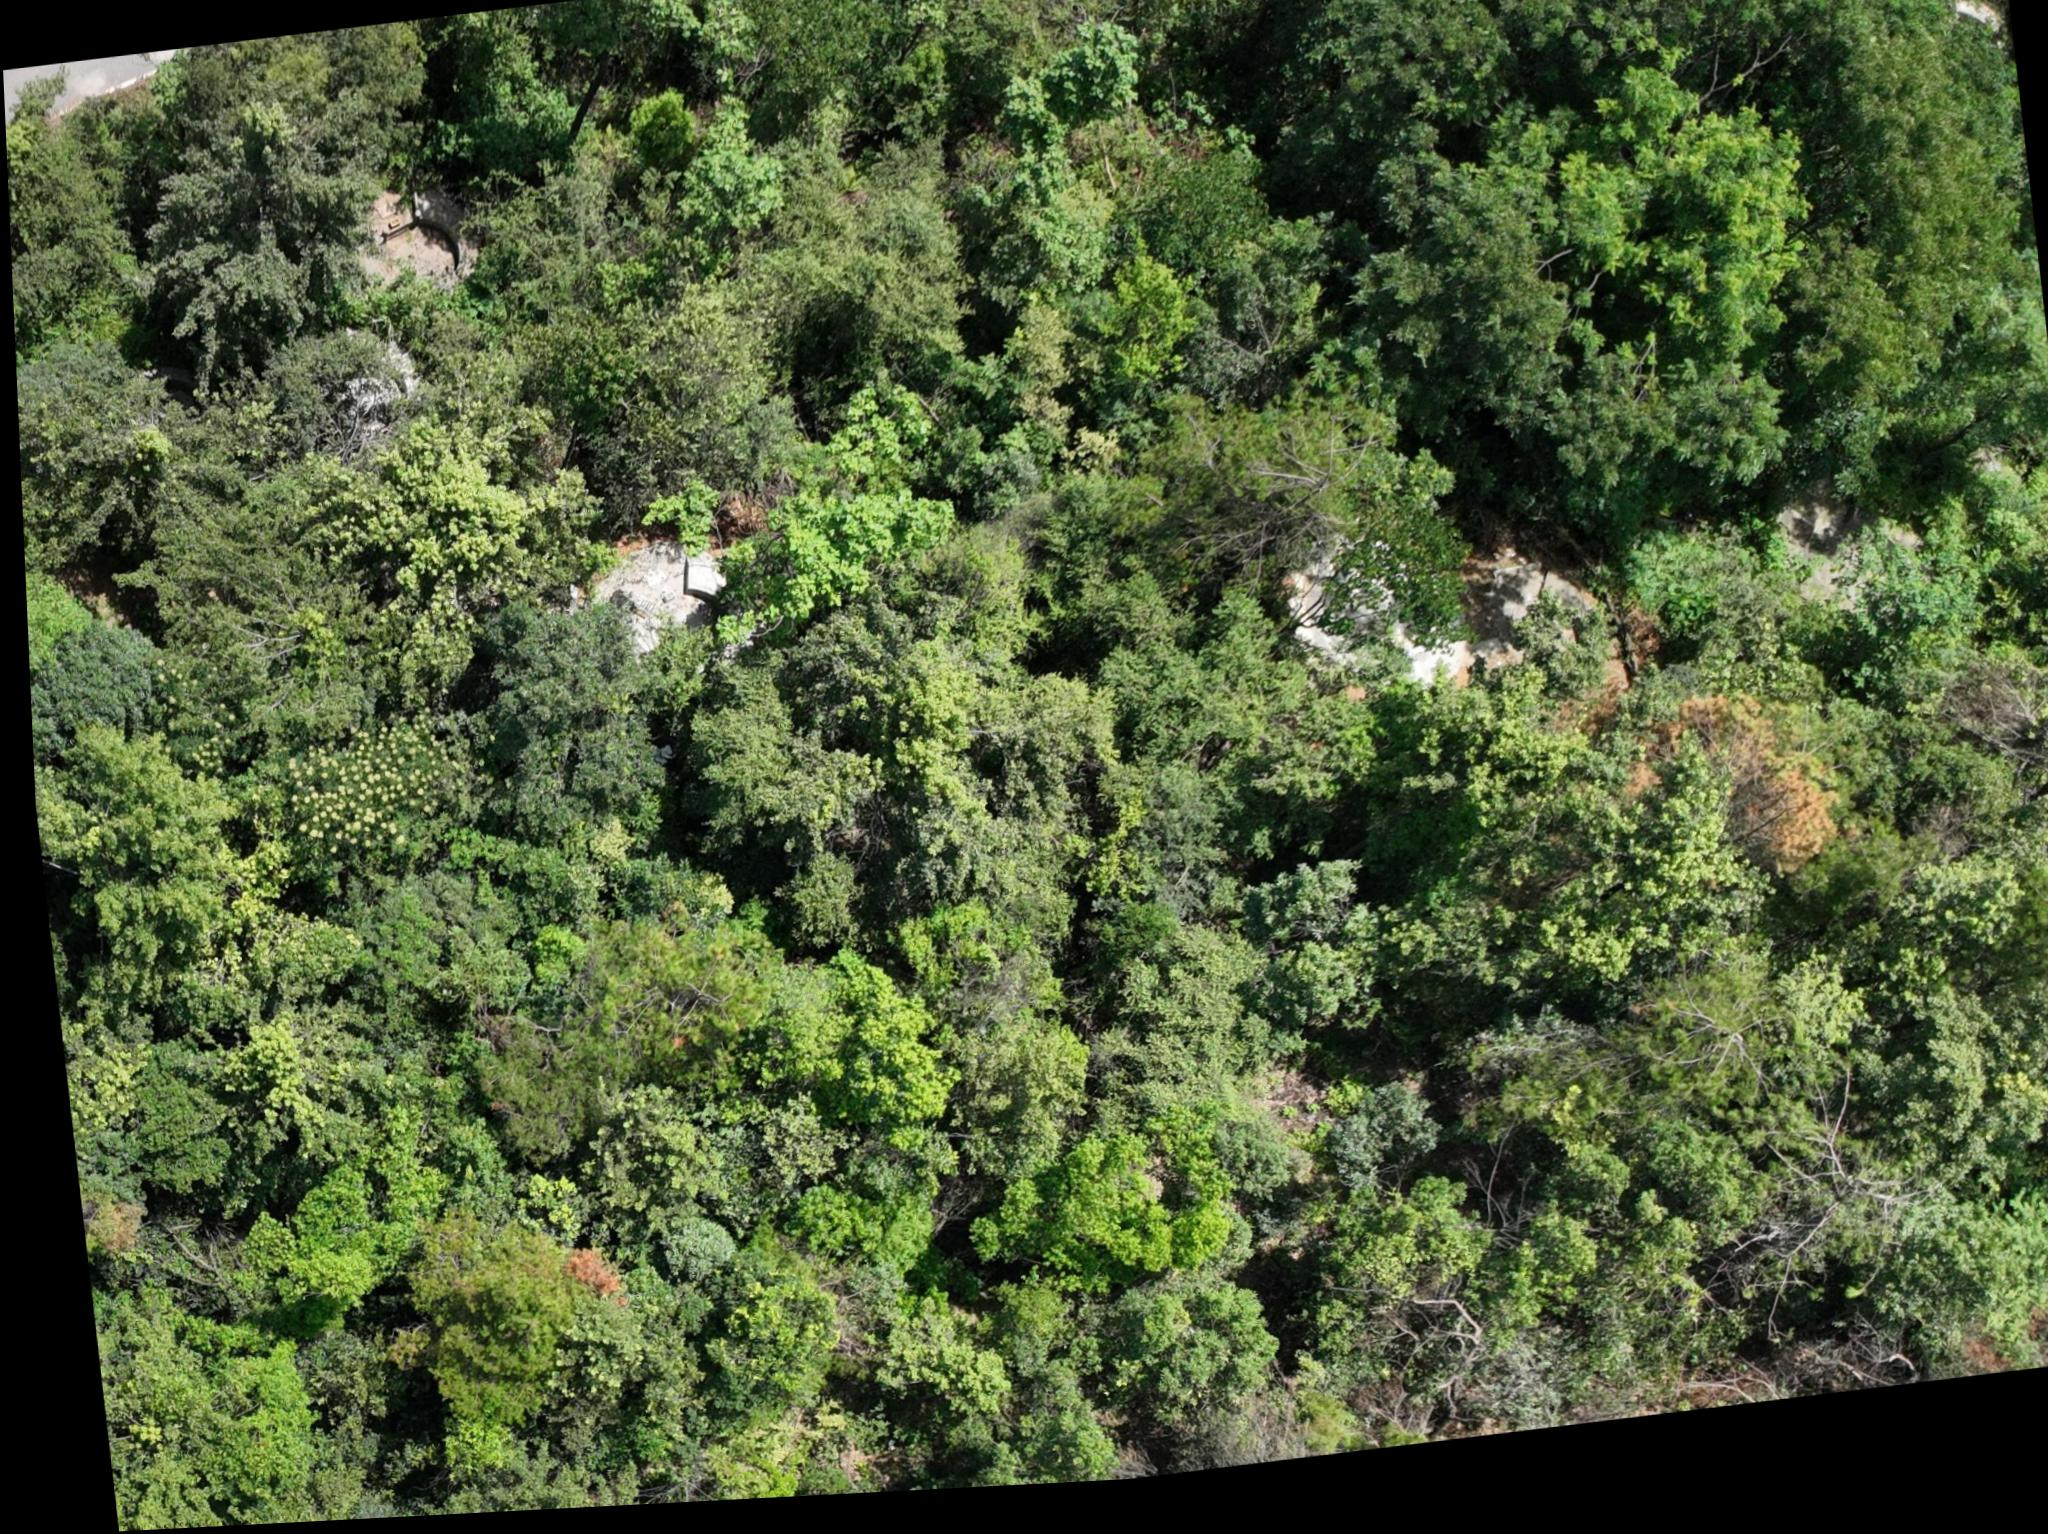heavy: (1669, 693, 1834, 917)
